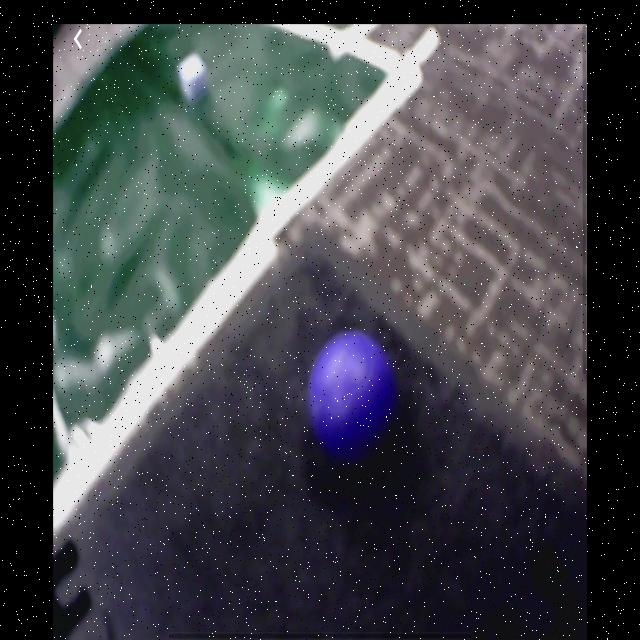ball: (308, 334, 399, 459)
